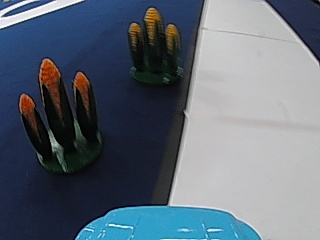corn: (23, 58, 105, 180), (125, 5, 183, 86)
